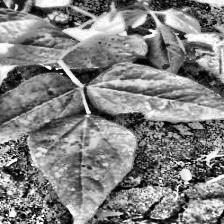ALS: (26, 113, 134, 224), (0, 76, 98, 176), (55, 33, 156, 71)
